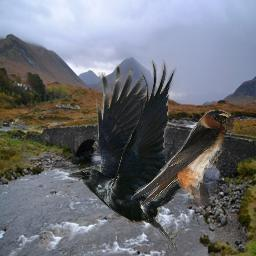Crow: (67, 58, 203, 254)
Swallow: (131, 110, 234, 206)
